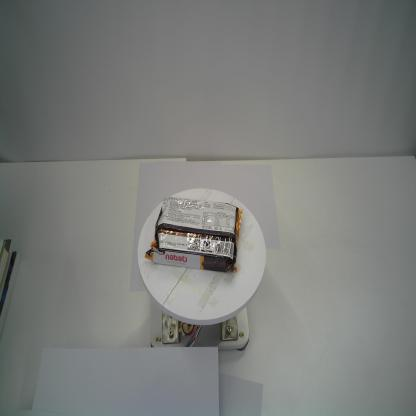Dessert: (145, 196, 244, 274)
